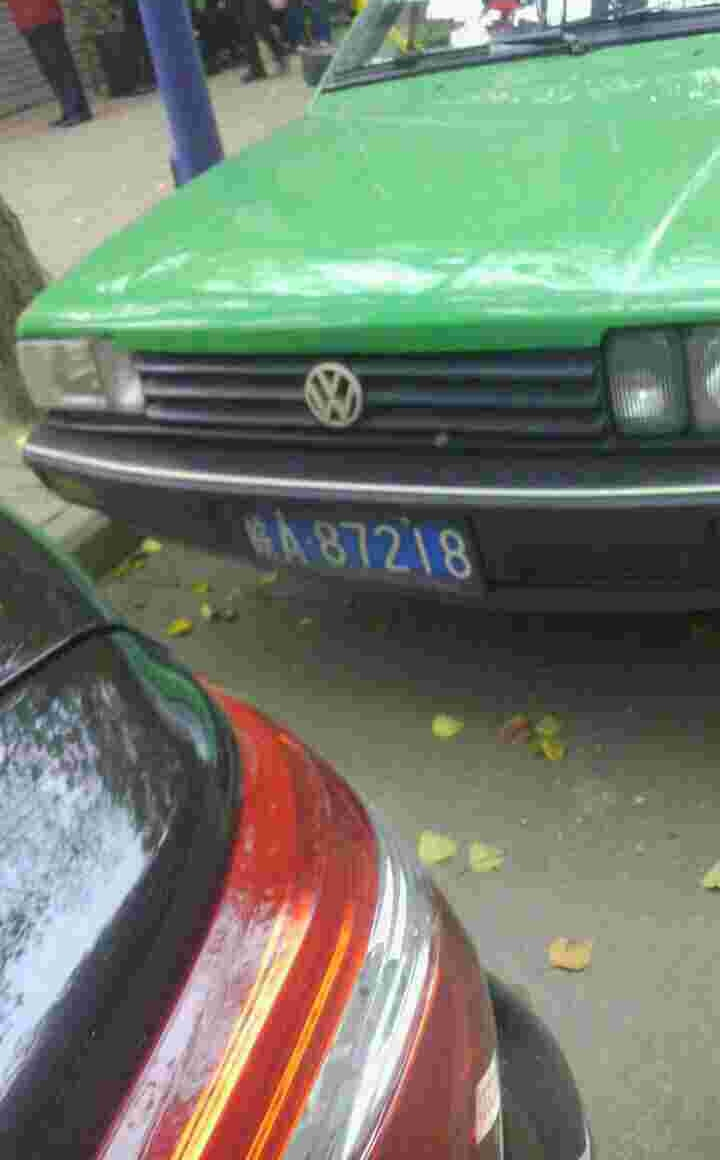license_plate: (254, 510, 481, 589)
